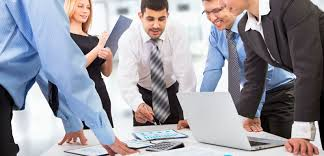F_shirt: (115, 20, 198, 114)
F_tie: (143, 40, 173, 124), (221, 25, 242, 114)
